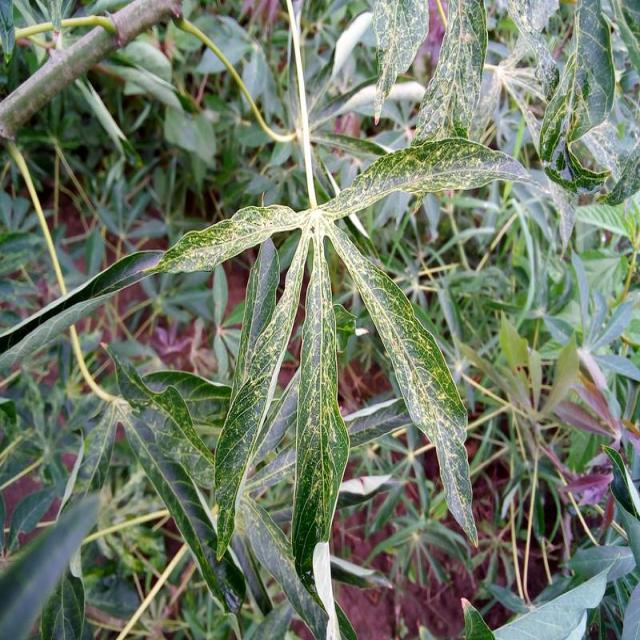cassava leaf: (1, 0, 552, 638), (323, 216, 479, 548)
